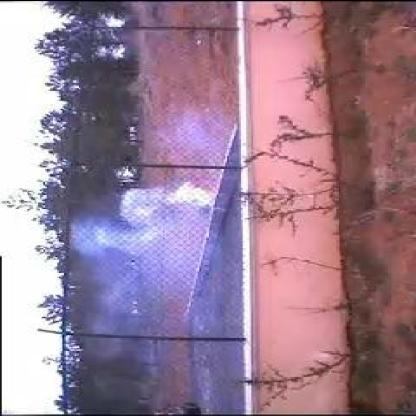-: (71, 177, 227, 331)
